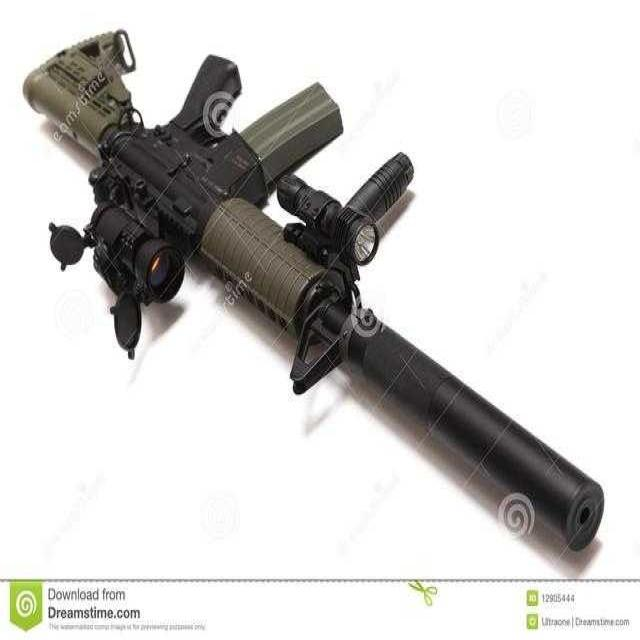heavyweapon: (16, 34, 598, 558)
